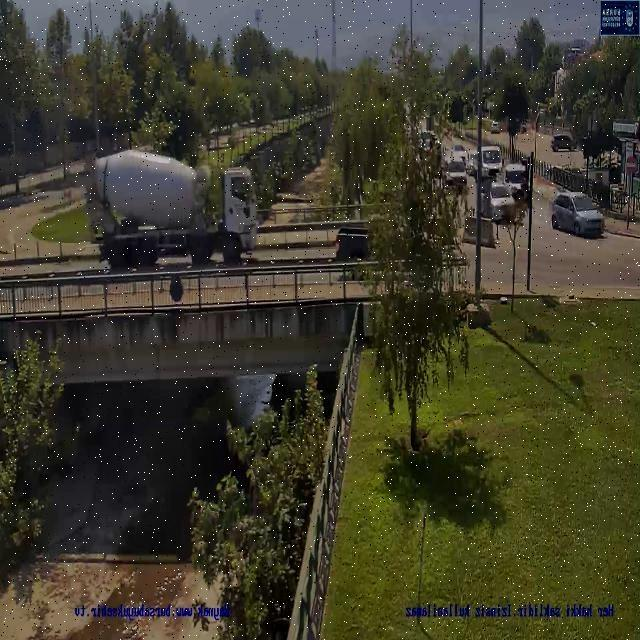Car: (544, 183, 622, 249), (482, 182, 527, 222), (544, 125, 582, 154), (442, 154, 468, 190), (486, 119, 502, 136)
Truck: (76, 145, 290, 280), (464, 143, 506, 180)
